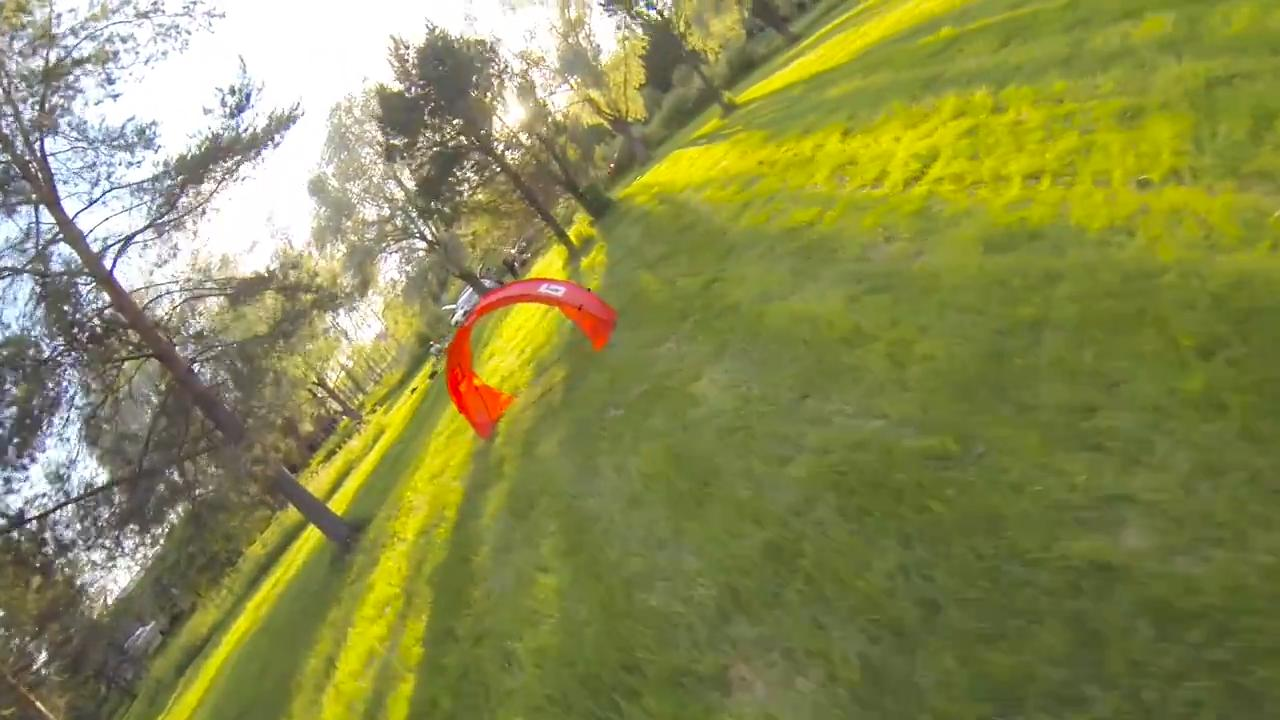gate: (441, 277, 623, 440)
